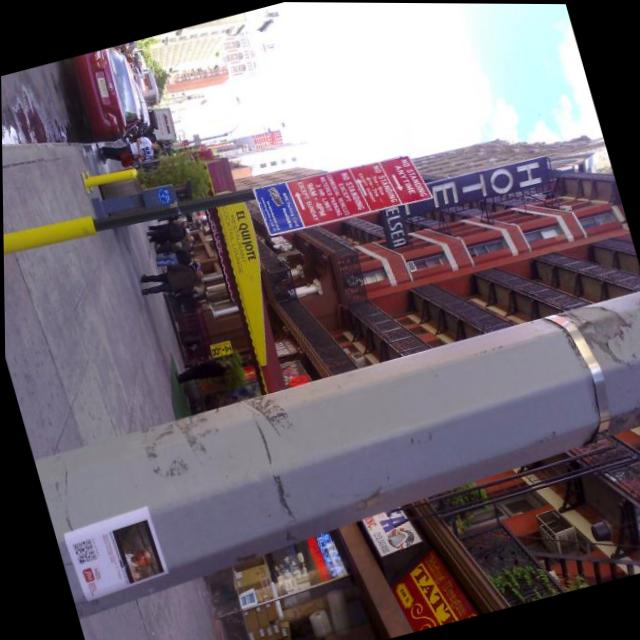qrcode: (70, 539, 95, 565)
